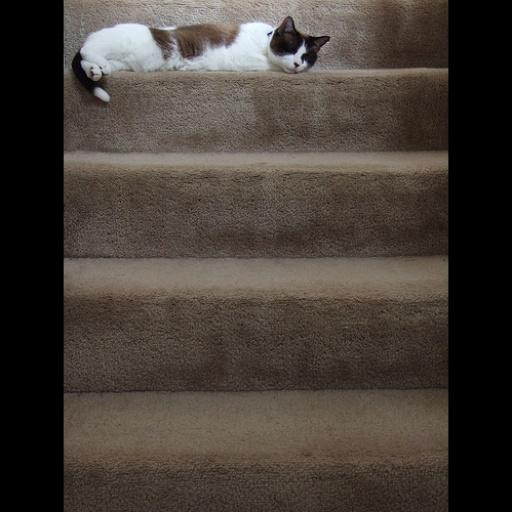stairs: (64, 0, 447, 511)
